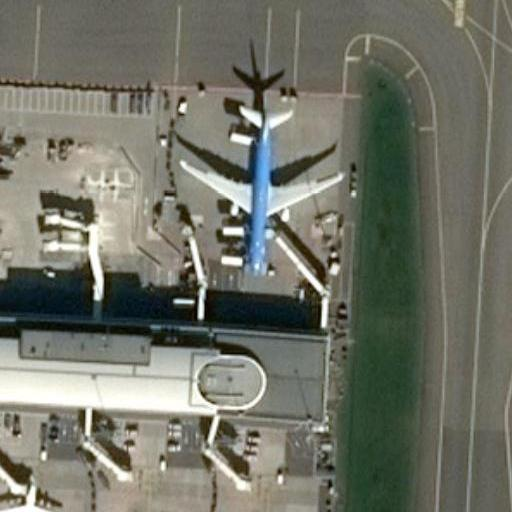Aircraft: (171, 90, 339, 278), (0, 473, 65, 512)
